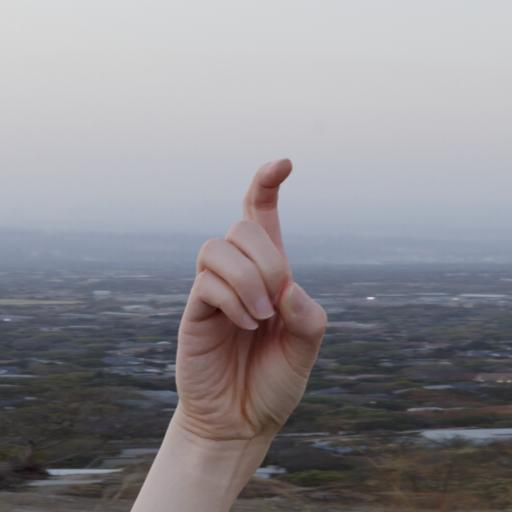X: (172, 153, 330, 445)
